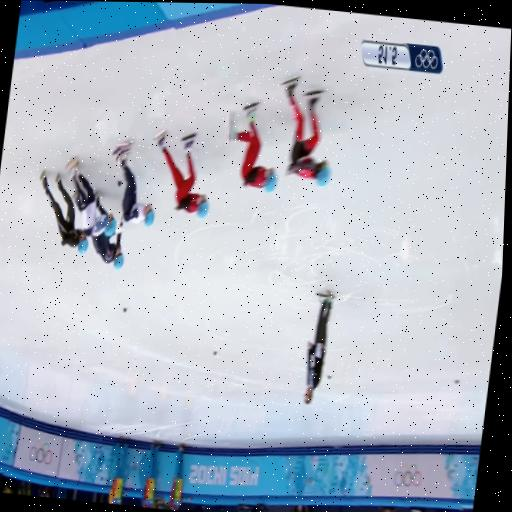Skater: (283, 76, 330, 185), (155, 130, 209, 217), (226, 103, 277, 191), (40, 171, 88, 252), (67, 158, 116, 235), (114, 140, 154, 225), (92, 215, 124, 268)
